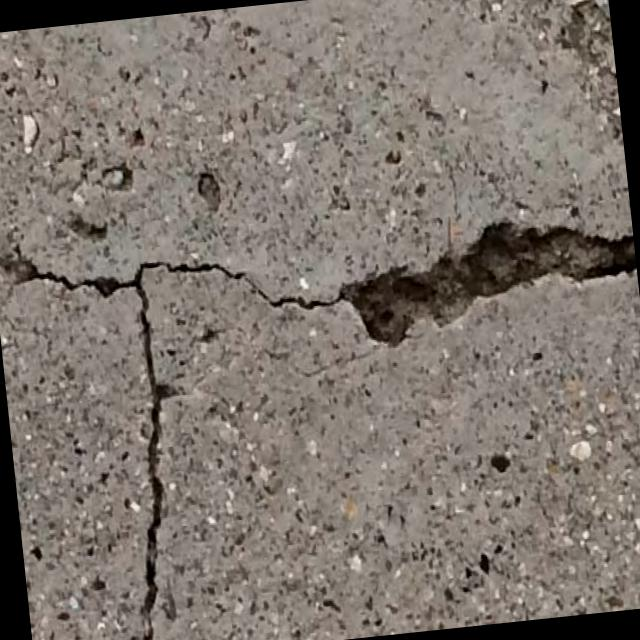crack: (0, 213, 340, 350), (106, 335, 203, 640)
spall: (331, 205, 640, 356)
